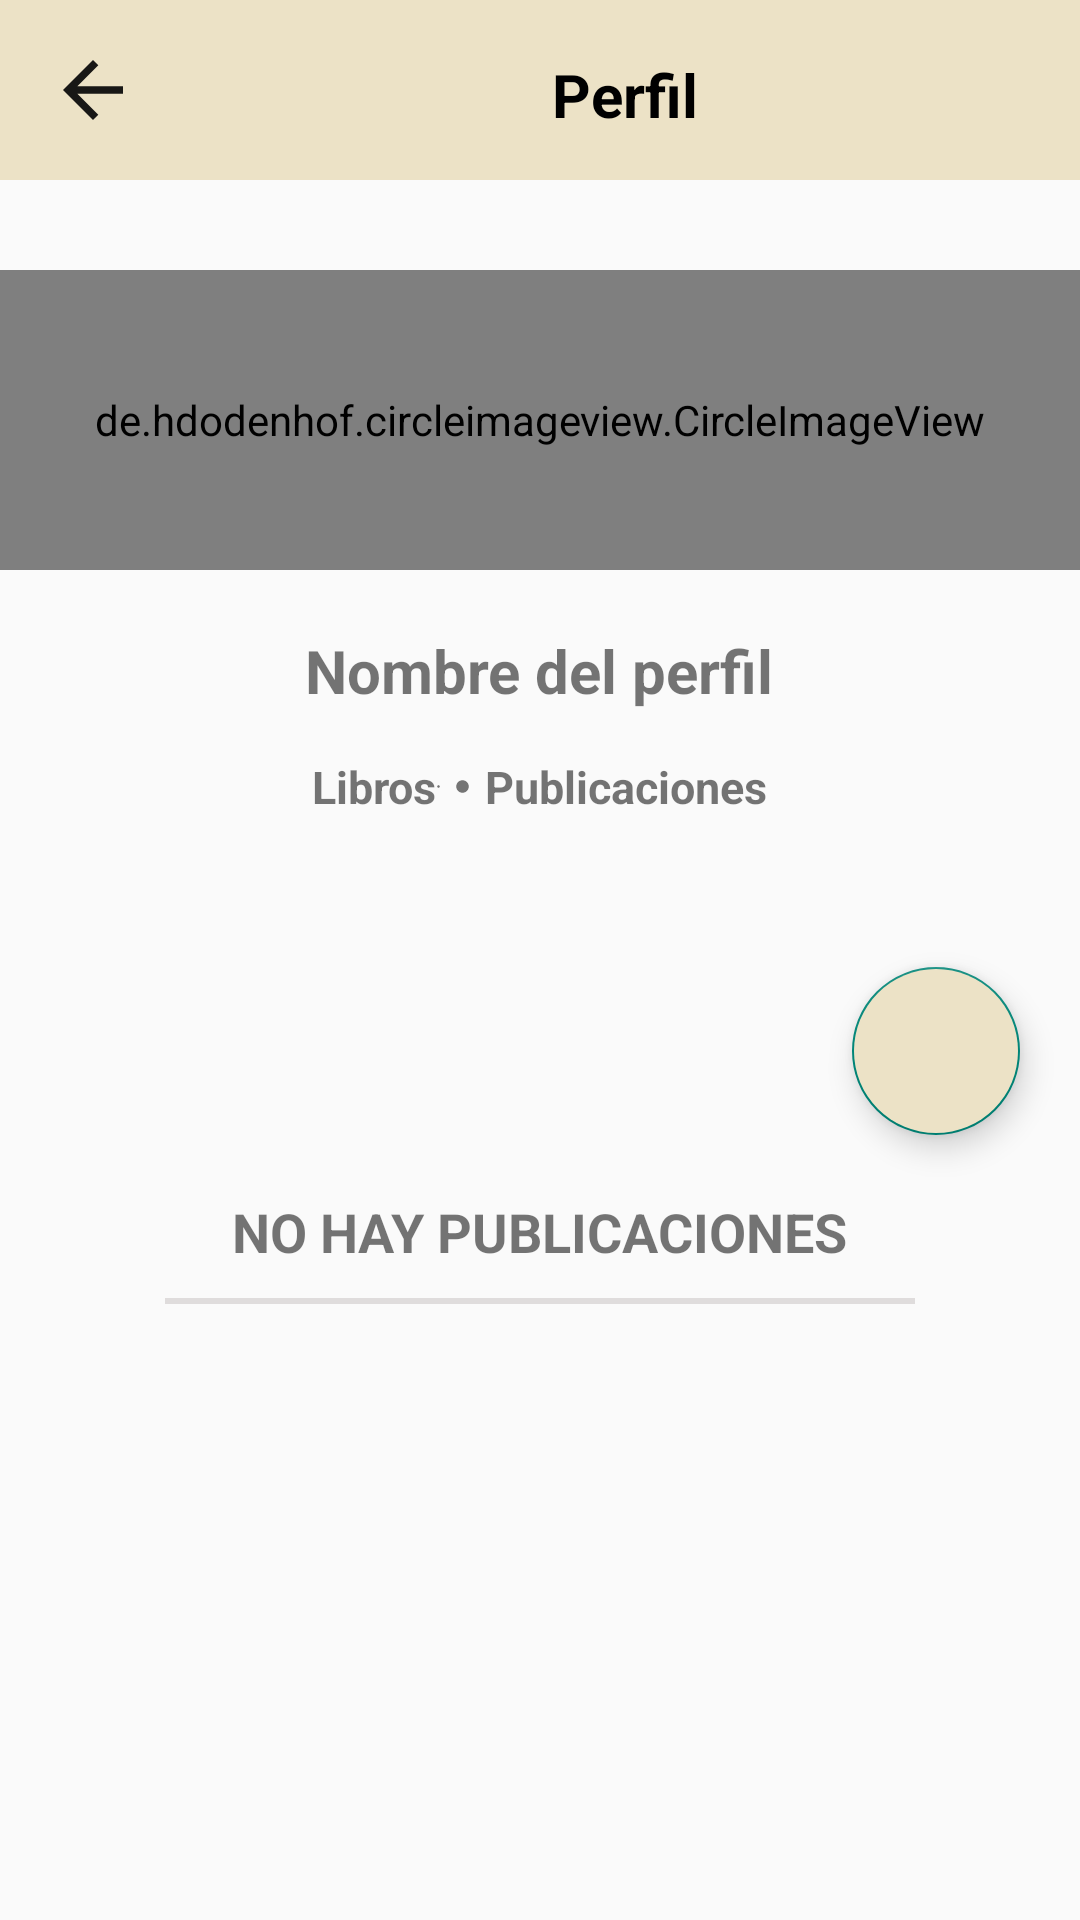

Icons on this 1080px×1920px Android screen, each with the point to tap as point (x, y):
arrow back: point (93, 90)
